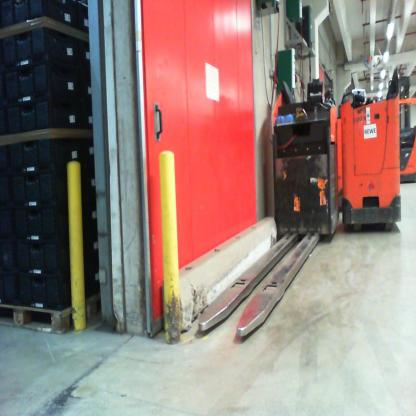pallet: (1, 279, 122, 339)
pallet_truck: (190, 79, 342, 356), (315, 62, 407, 243), (391, 59, 416, 188)
